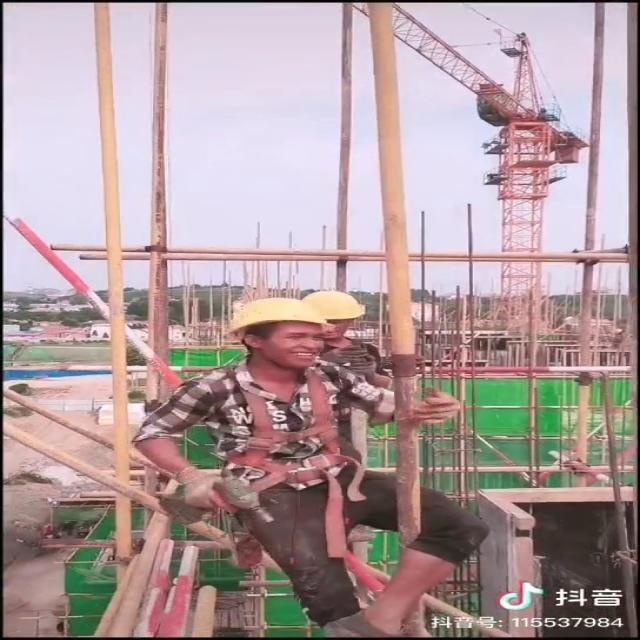Arnes_seguridad: (199, 360, 369, 512)
